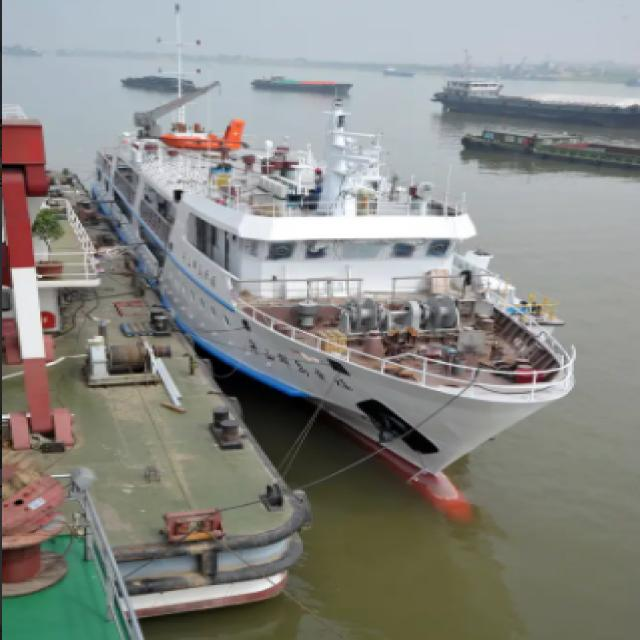houseboat: (71, 121, 576, 469)
